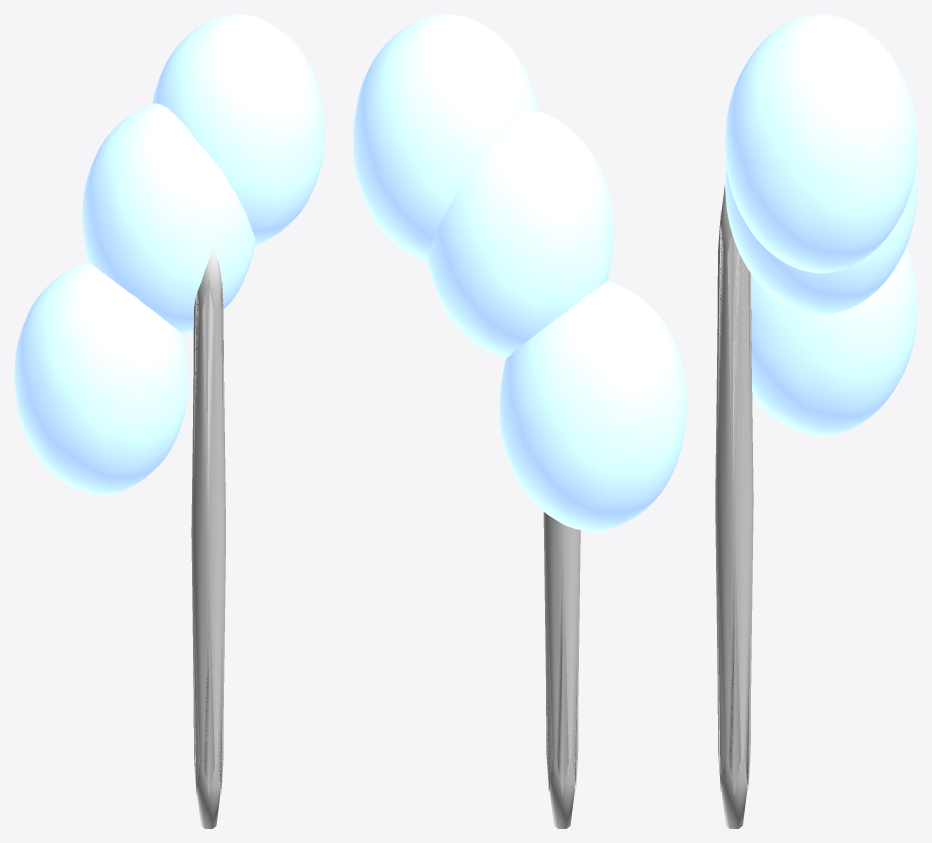
File: plant_flower_bell_v3.glb
The picture shows the model from 3 angles, left to right: view 1: azimuth 30°, elevation 25°; view 2: azimuth 150°, elevation 25°; view 3: azimuth 270°, elevation 25°; orthographic projection. The views are drawn at different scales.
Visible parts, largest first — view 1: bl_0, bl_1, bl_2, st.004; view 2: bl_0, bl_1, bl_2, st.004; view 3: bl_2, st.004, bl_0, bl_1.
Boxes of the visible parts, x1=… form: bl_0: x1=14, y1=262, x2=188, y2=494; bl_1: x1=82, y1=103, x2=255, y2=334; bl_2: x1=152, y1=14, x2=324, y2=245; st.004: x1=191, y1=249, x2=225, y2=828; bl_0: x1=499, y1=281, x2=686, y2=531; bl_1: x1=427, y1=110, x2=613, y2=358; bl_2: x1=353, y1=14, x2=538, y2=262; st.004: x1=543, y1=512, x2=580, y2=828; bl_2: x1=725, y1=14, x2=917, y2=273; st.004: x1=715, y1=185, x2=753, y2=828; bl_0: x1=751, y1=246, x2=917, y2=436; bl_1: x1=725, y1=166, x2=917, y2=315.
Size of the model in its own units: 0.2108 by 0.5343 by 0.1165.
